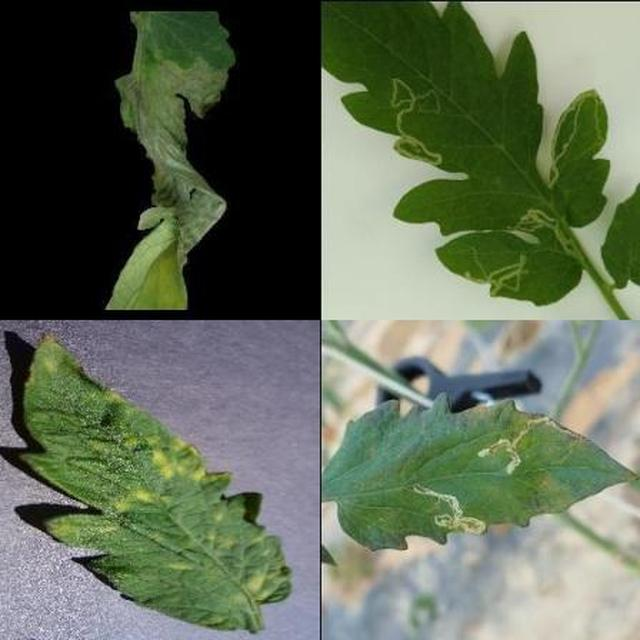Late Blight Leaf: (196, 220, 640, 640)
